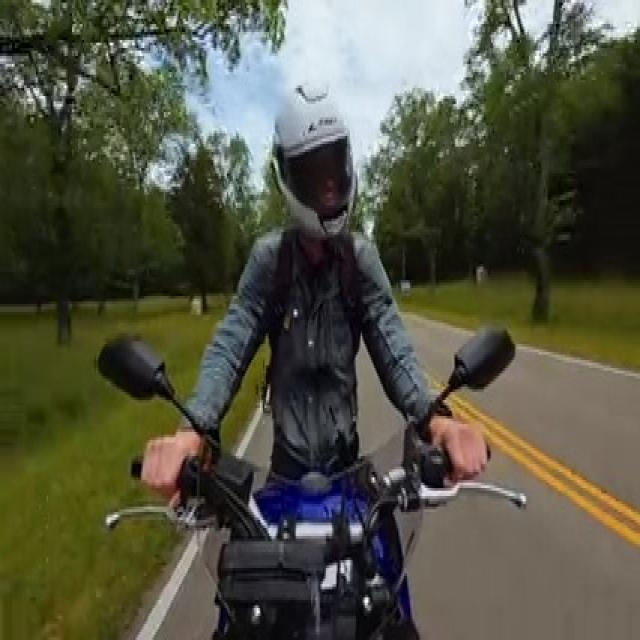Helmet_Wearer: (266, 82, 362, 239)
Person: (147, 88, 488, 489)
